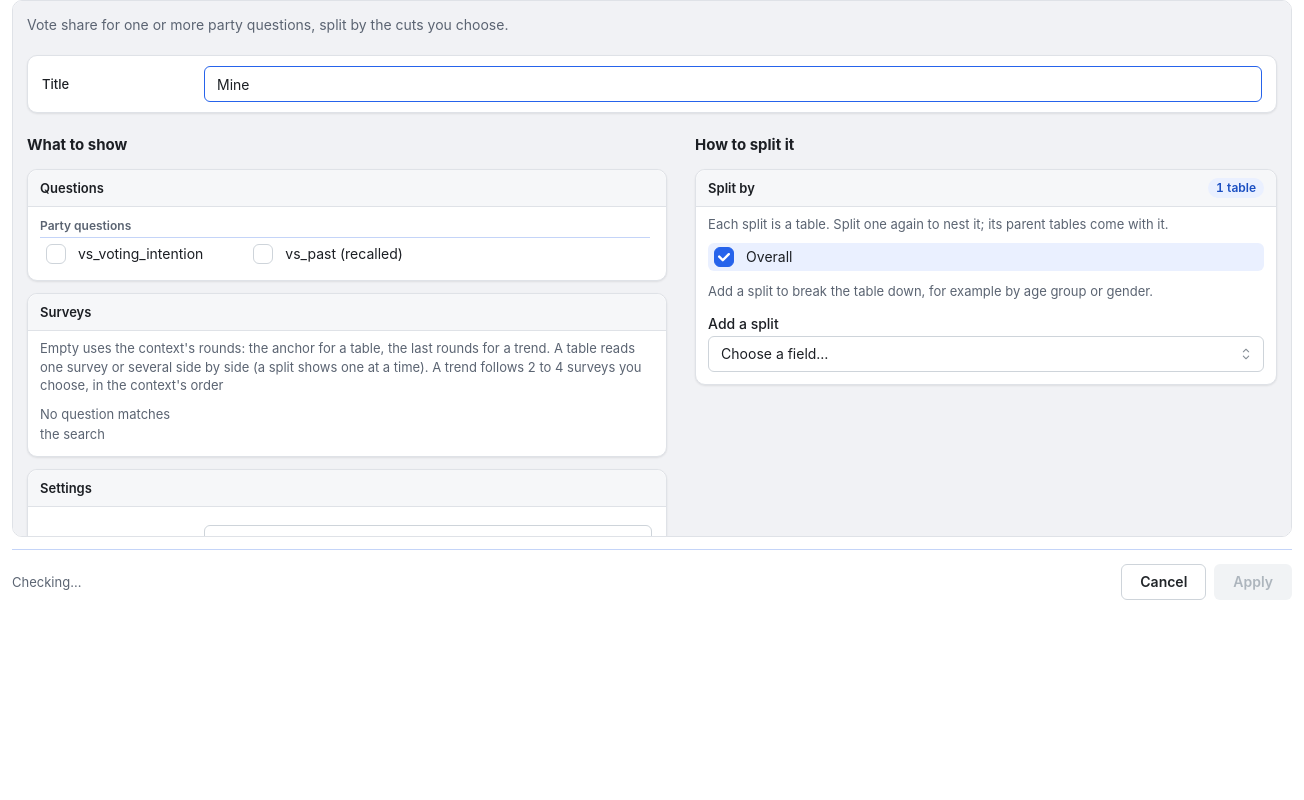
Scenario: ConfigurePanel › keeps one sentence of what the card will show next to Apply, and updates it as questions are chosen
The image size is (1304, 800).
Click the checkbox labelled "vs_voting_intention".
click(56, 254)  # box [46,244,66,264]
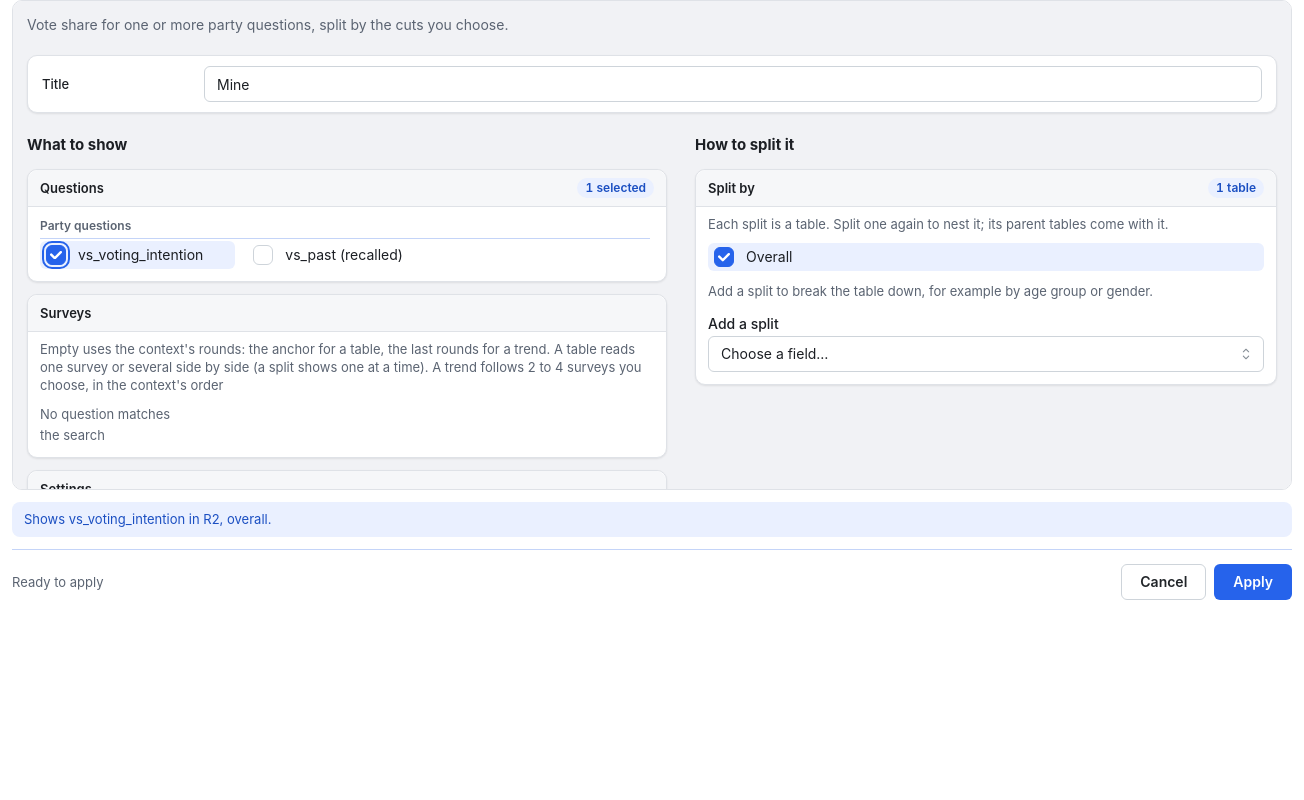
Expected: the text with test id "draft-summary" shows "Shows vs_voting_intention in R2", [24,511,271,527]
